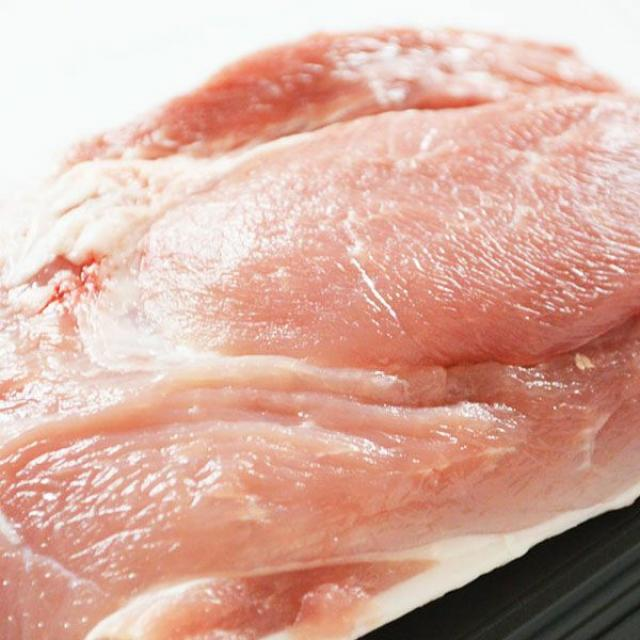Pork: (12, 52, 638, 593)
